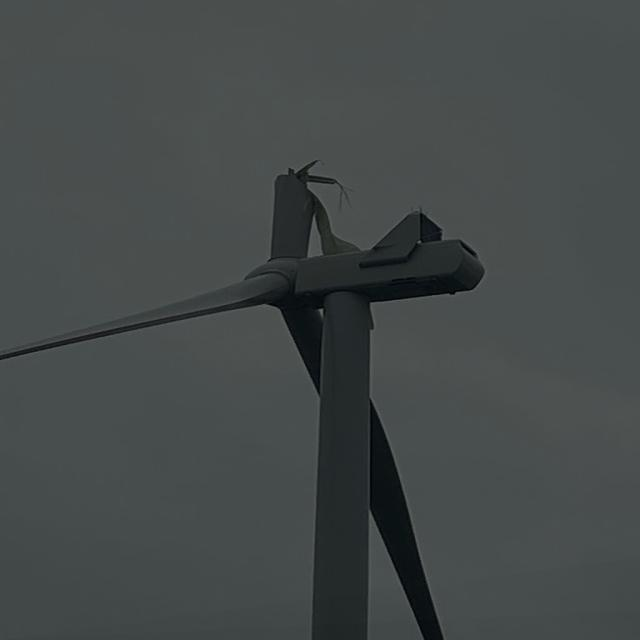crack: (262, 164, 363, 250)
